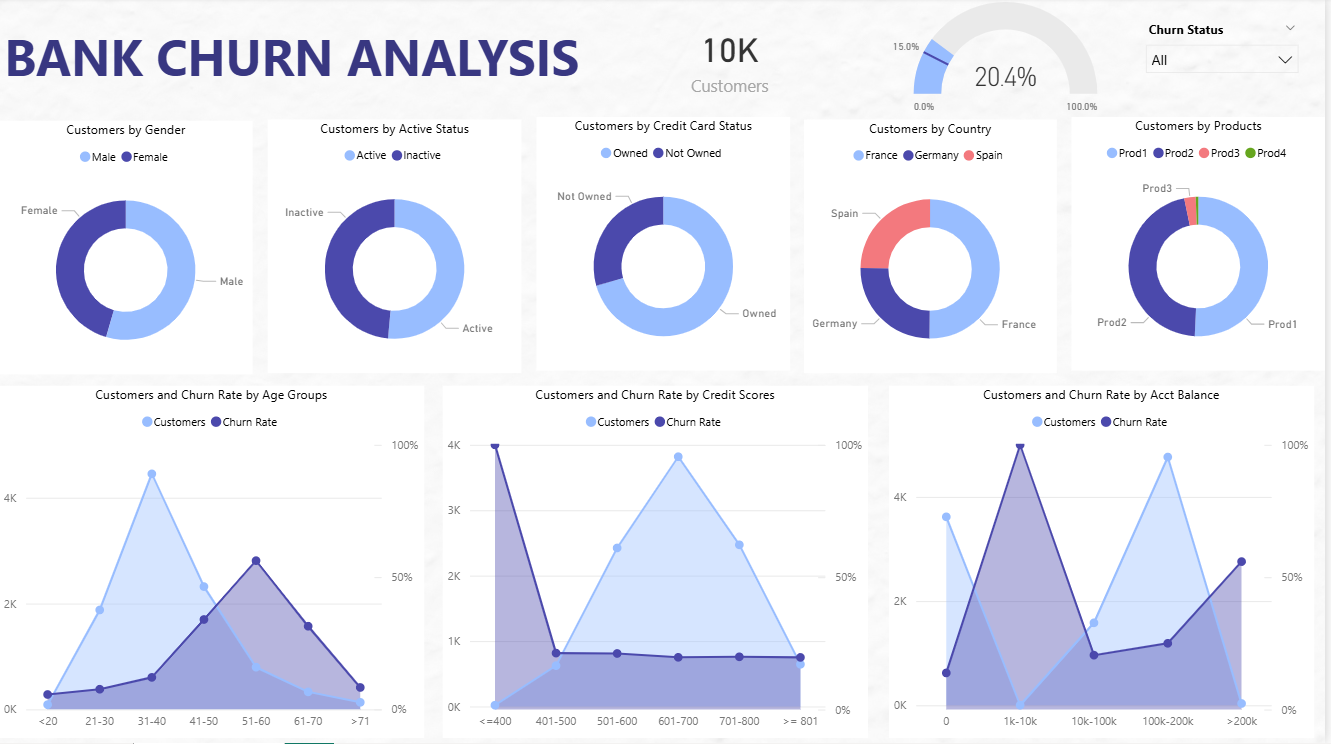

Layout of this report page (visuals, bound fields, positions):
{"tool":"powerbi","page":{"name":"Churn Analysis","canvas":[1280,720],"ordinal":0},"visuals":[{"type":"card","fields":{"Values":["Bank Customer Churn Prediction.Customers"]},"box":[575.5,14.5,129.1,105],"z":0},{"type":"donutChart","fields":{"Category":["Bank Customer Churn Prediction.Gender"],"Y":["Bank Customer Churn Prediction.Customers"]},"box":[9.7,136.3,199.1,206.3],"z":1000},{"type":"donutChart","fields":{"Y":["Bank Customer Churn Prediction.Customers"],"Category":["Bank Customer Churn Prediction.Active Status"]},"box":[228,136.3,199.1,206.3],"z":2000},{"type":"donutChart","fields":{"Y":["Bank Customer Churn Prediction.Customers"],"Category":["Bank Customer Churn Prediction.Credit Card Status"]},"box":[441.6,137.5,199.1,206.3],"z":3000},{"type":"donutChart","fields":{"Y":["Bank Customer Churn Prediction.Customers"],"Category":["Bank Customer Churn Prediction.Country"]},"box":[661.1,136.3,199.1,206.3],"z":4000},{"type":"donutChart","fields":{"Y":["Bank Customer Churn Prediction.Customers"],"Category":["Bank Customer Churn Prediction.Products"]},"box":[877.1,136.3,197.9,206.3],"z":5000},{"type":"columnChart","fields":{"Category":["Age Groups.Age Groups"],"Y":["Bank Customer Churn Prediction.Customers","Bank Customer Churn Prediction.Churn Rate"]},"box":[9.7,369.2,330.6,235.3],"z":6000},{"type":"columnChart","fields":{"Category":["Credit Score Groups.Credit Scores"],"Y":["Bank Customer Churn Prediction.Customers","Bank Customer Churn Prediction.Churn Rate"]},"box":[378.8,369.2,330.6,235.3],"z":7000},{"type":"columnChart","fields":{"Category":["Acct Balance Group.Acct Balance"],"Y":["Bank Customer Churn Prediction.Customers","Bank Customer Churn Prediction.Churn Rate"]},"box":[744.4,369.2,330.6,235.3],"z":8000},{"type":"slicer","fields":{"Values":["Bank Customer Churn Prediction.Churn Status"]},"box":[722.7,14.5,166.5,55.5],"z":9000},{"type":"gauge","title":"Churn Rate","fields":{"Y":["Bank Customer Churn Prediction.Churn Rate"],"MinValue":["Min(Bank Customer Churn Prediction.Min Churn rate)"],"MaxValue":["Max(Bank Customer Churn Prediction.Max Churn Rate)"],"TargetValue":["Max(Bank Customer Churn Prediction.Target Churn Rate)"]},"box":[900,14.5,174.9,105],"z":10000},{"type":"slicer","fields":{"Values":["Bank Customer Churn Prediction.Gender"]},"box":[722.7,76,166.5,55.5],"z":11000},{"type":"shape","title":"BANK CHURN ANALYSUS","box":[0,0,559.8,108.6],"z":12000}]}

Visuals, with their boxes in screenshot pixels (x1, y1, x2, y2), scaled from the page's 1280x720 canvas onto the 1331x744 screenshot:
card - Bank Customer Churn Prediction.Customers: {"left": 598, "top": 15, "right": 733, "bottom": 123}
donutChart - Bank Customer Churn Prediction.Gender x Bank Customer Churn Prediction.Customers: {"left": 10, "top": 141, "right": 217, "bottom": 354}
donutChart - Bank Customer Churn Prediction.Customers x Bank Customer Churn Prediction.Active Status: {"left": 237, "top": 141, "right": 444, "bottom": 354}
donutChart - Bank Customer Churn Prediction.Customers x Bank Customer Churn Prediction.Credit Card Status: {"left": 459, "top": 142, "right": 666, "bottom": 355}
donutChart - Bank Customer Churn Prediction.Customers x Bank Customer Churn Prediction.Country: {"left": 687, "top": 141, "right": 894, "bottom": 354}
donutChart - Bank Customer Churn Prediction.Customers x Bank Customer Churn Prediction.Products: {"left": 912, "top": 141, "right": 1118, "bottom": 354}
columnChart - Age Groups.Age Groups x Bank Customer Churn Prediction.Customers: {"left": 10, "top": 382, "right": 354, "bottom": 625}
columnChart - Credit Score Groups.Credit Scores x Bank Customer Churn Prediction.Customers: {"left": 394, "top": 382, "right": 738, "bottom": 625}
columnChart - Acct Balance Group.Acct Balance x Bank Customer Churn Prediction.Customers: {"left": 774, "top": 382, "right": 1118, "bottom": 625}
slicer - Bank Customer Churn Prediction.Churn Status: {"left": 751, "top": 15, "right": 925, "bottom": 72}
"Churn Rate" gauge: {"left": 936, "top": 15, "right": 1118, "bottom": 123}
slicer - Bank Customer Churn Prediction.Gender: {"left": 751, "top": 79, "right": 925, "bottom": 136}
"BANK CHURN ANALYSUS" shape: {"left": 0, "top": 0, "right": 582, "bottom": 112}
